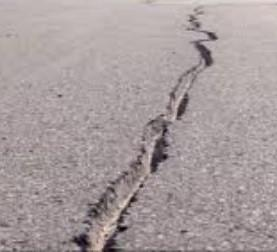crack: (64, 131, 157, 252), (144, 58, 188, 164), (181, 0, 220, 78)
